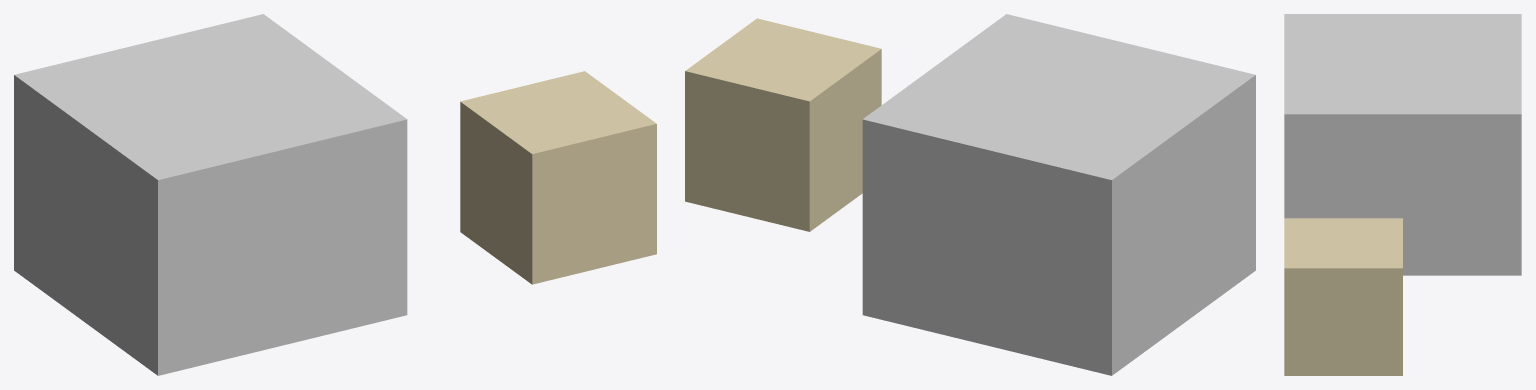
The model's file is uvPainted.glb.
The picture shows the model from 3 angles, left to right: view 1: azimuth 30°, elevation 25°; view 2: azimuth 150°, elevation 25°; view 3: azimuth 270°, elevation 25°; orthographic projection. The views are drawn at different scales.
Visible parts, largest first — view 1: uvPainted, 画盒; view 2: uvPainted, 画盒; view 3: uvPainted, 画盒.
Boxes of the visible parts, x1,y1,x2,y2 form: uvPainted: (14, 14, 407, 375); 画盒: (460, 71, 656, 284); uvPainted: (862, 14, 1255, 375); 画盒: (685, 18, 881, 231); uvPainted: (1284, 14, 1521, 275); 画盒: (1284, 218, 1402, 375).
Size of the model in its own units: 4 by 1.5 by 2.
